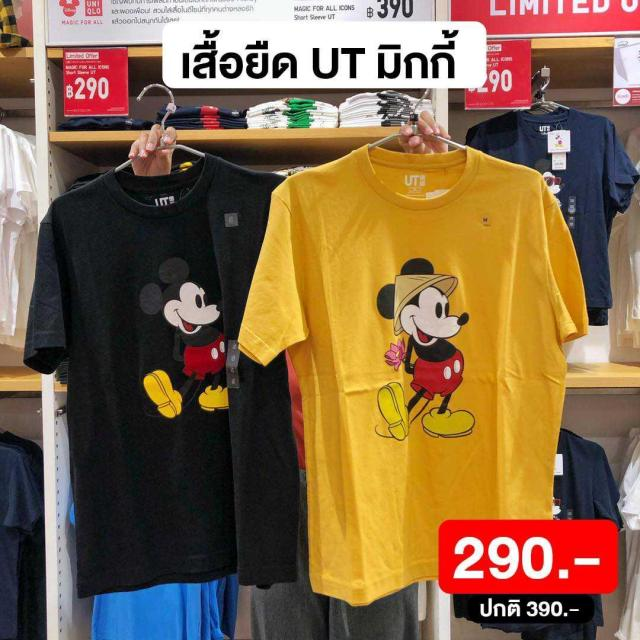Tshirt: (249, 144, 588, 580), (24, 165, 288, 583)
